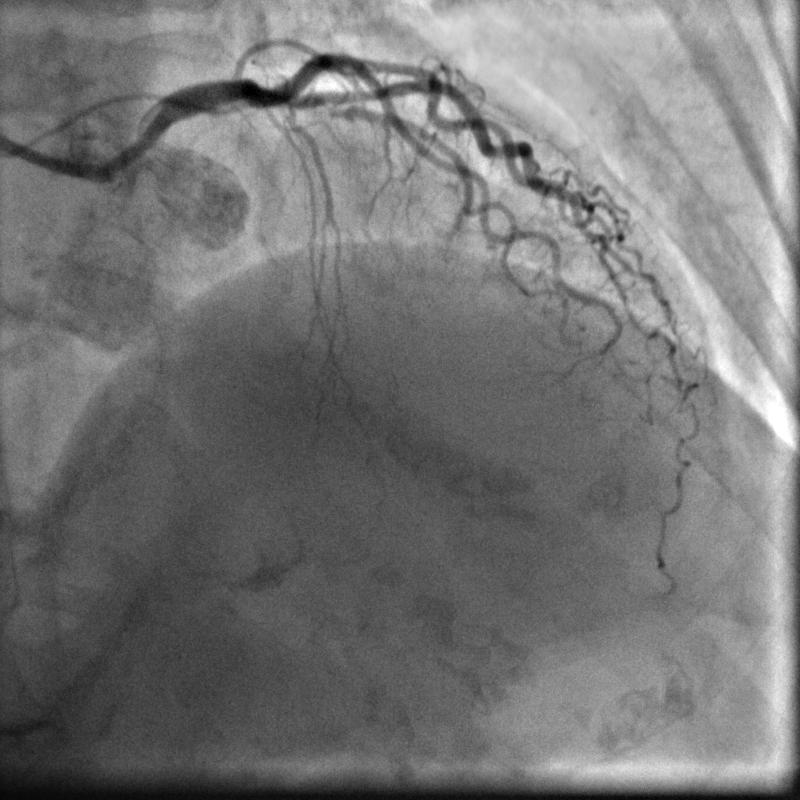Stenosis: (316, 102, 355, 119)
